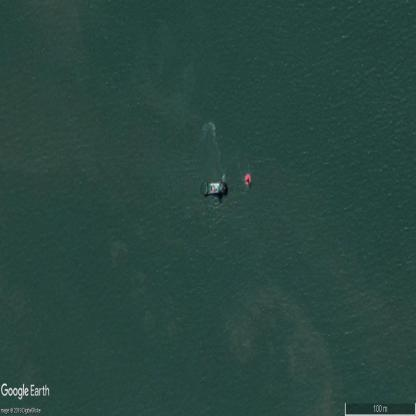ship: (201, 181, 227, 196)
